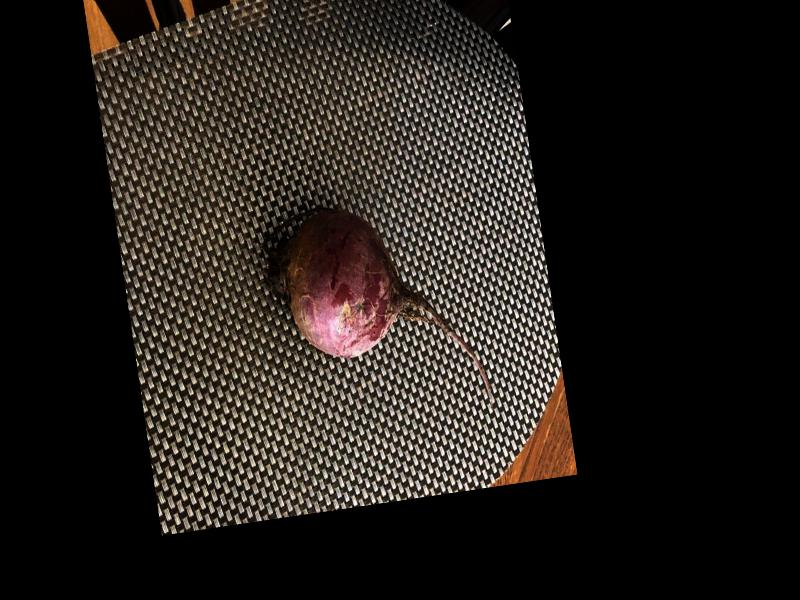Beet: (256, 188, 494, 433)
